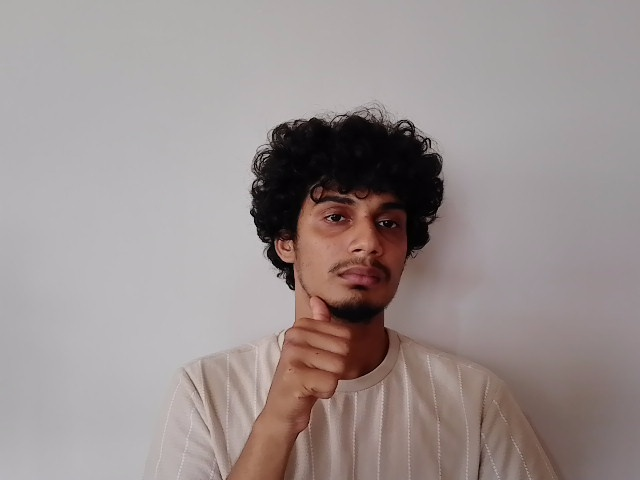not: (280, 284, 393, 411)
